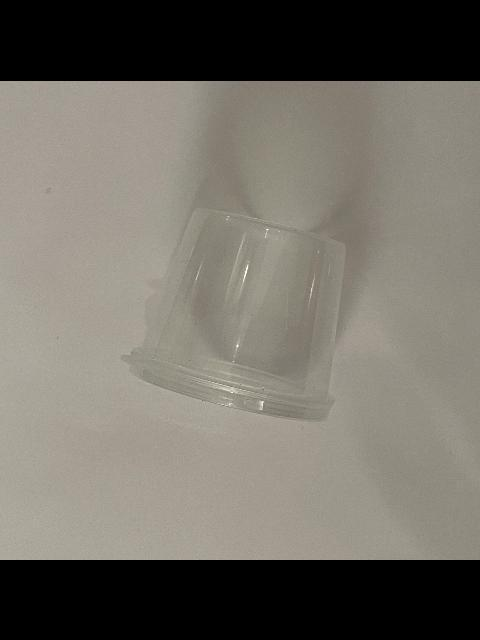plasticcontainer: (121, 206, 347, 424)
